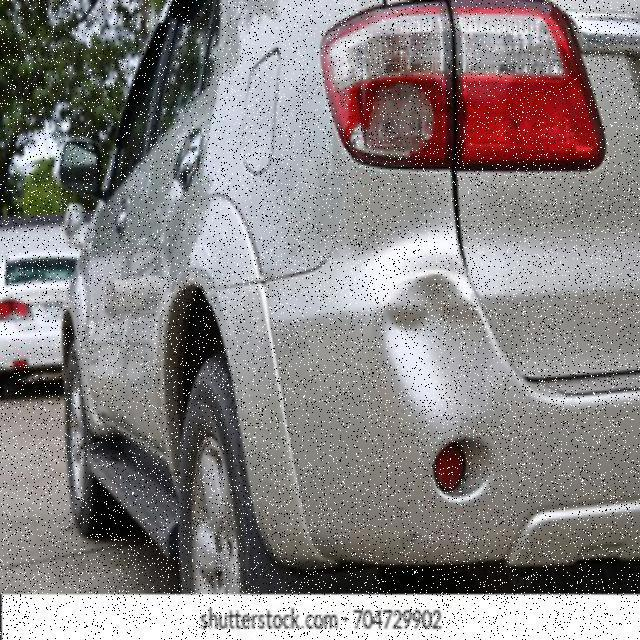rear-bumper-dent: (252, 249, 638, 576)
